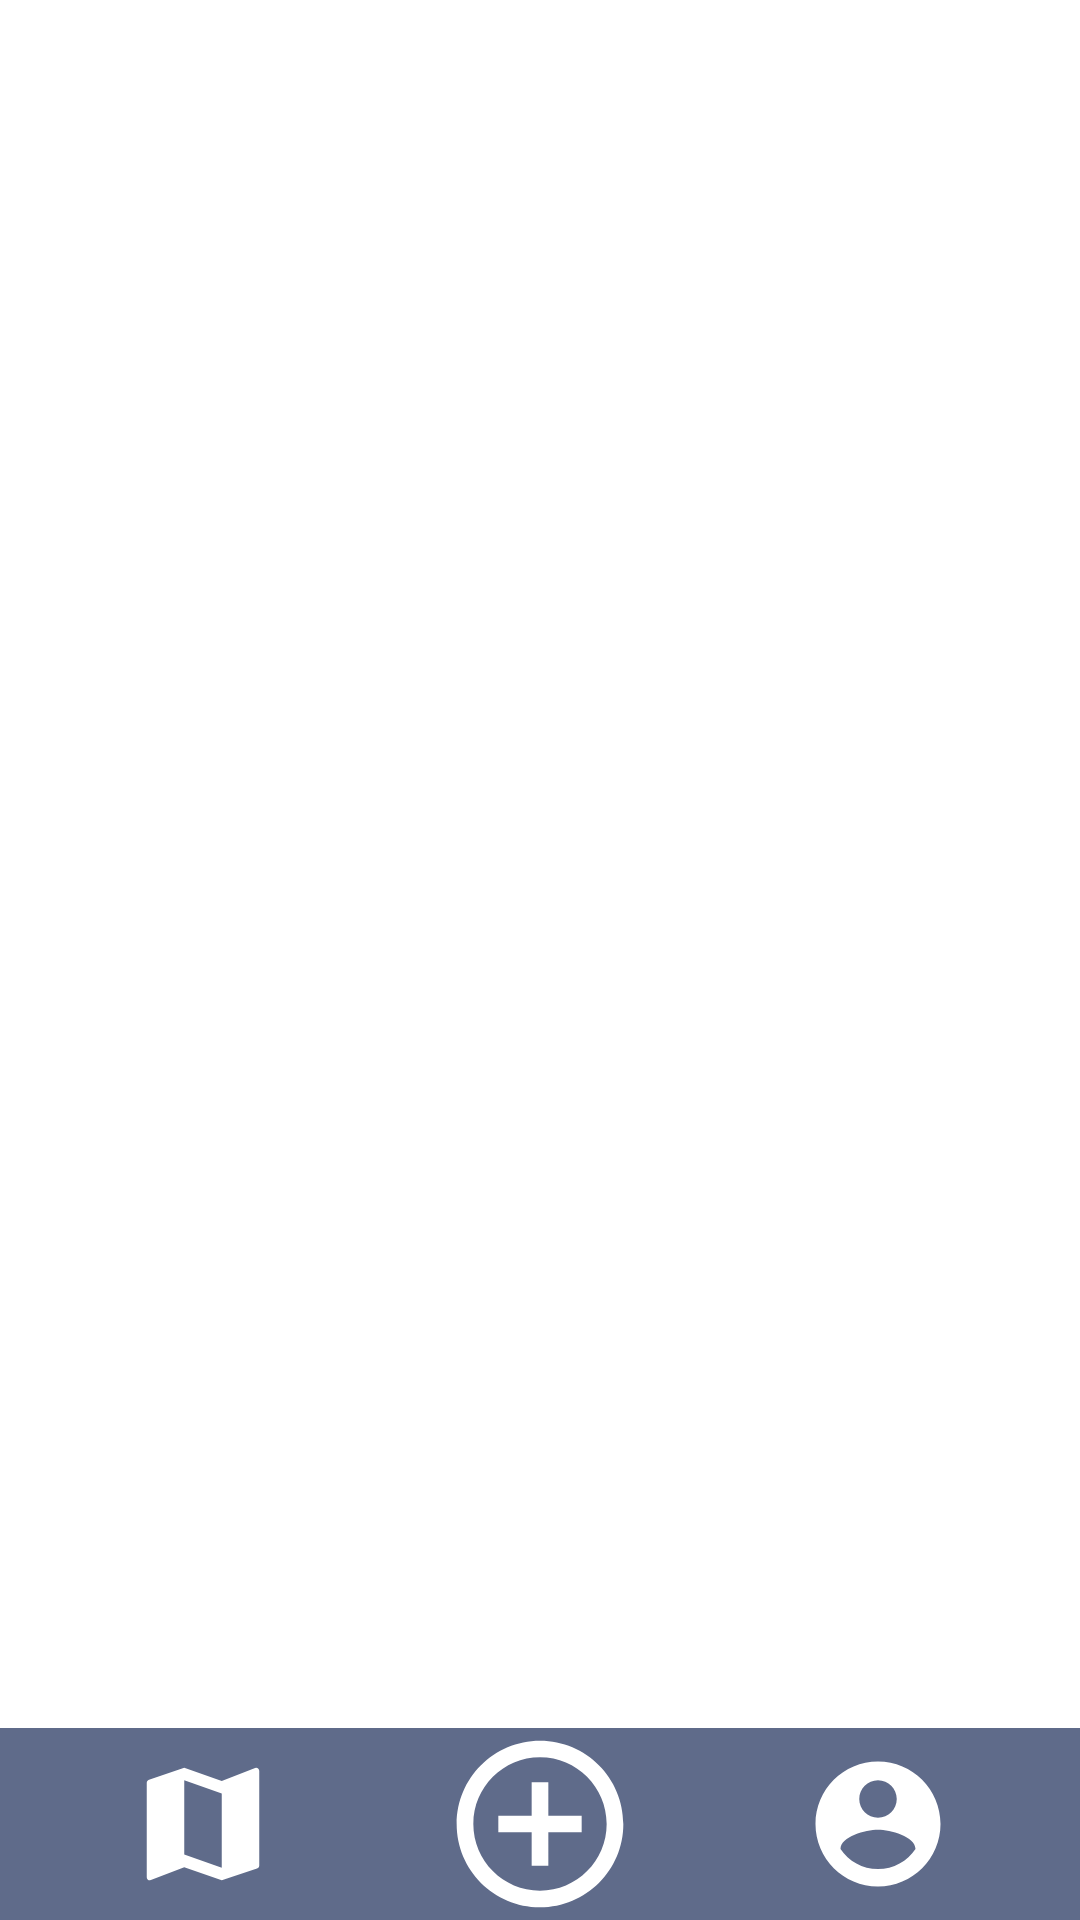

Icon bounding boxes for this 1080x1920 phone screenshot, format [x1=x1, y1=y1, x2=x2, y2=y2]:
create request: [x1=456, y1=1740, x2=624, y2=1908]
profile: [x1=815, y1=1761, x2=941, y2=1887]
